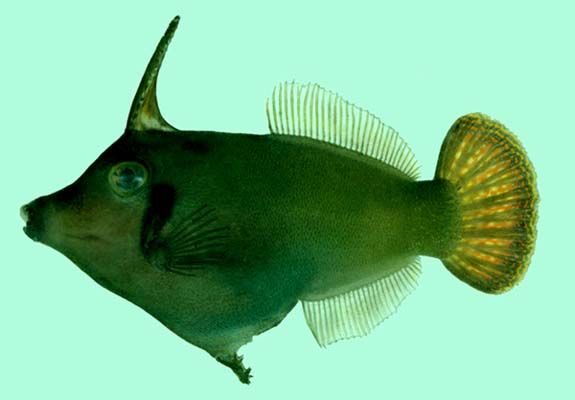fish: (19, 14, 540, 385)
